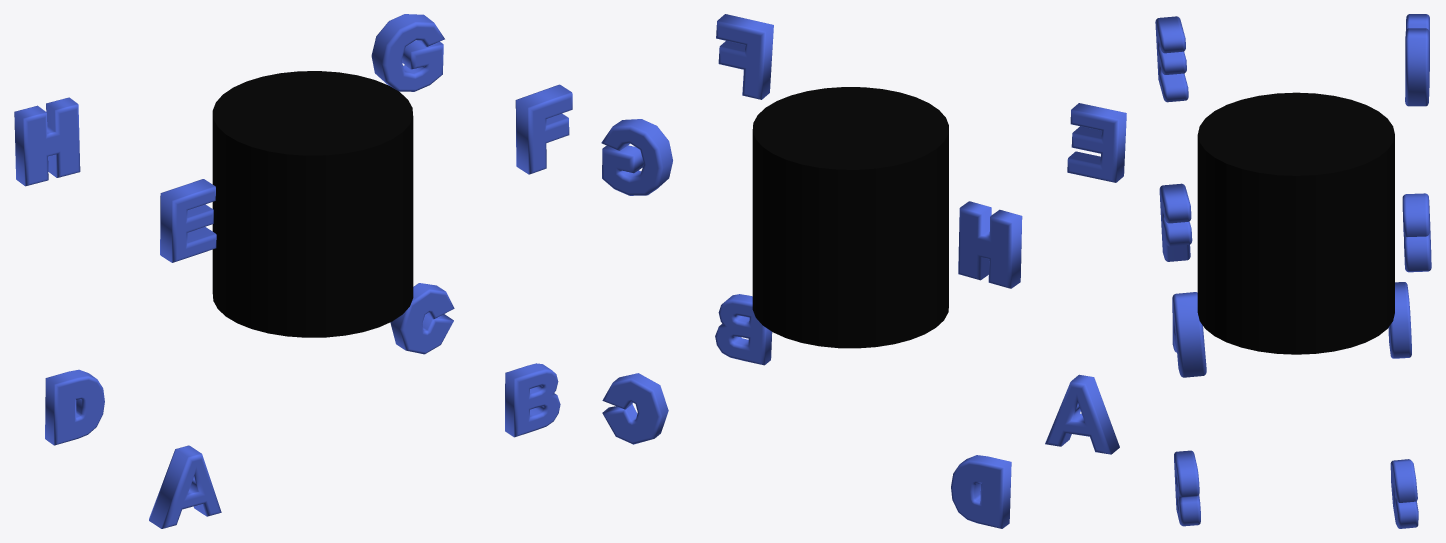
Rendered from tabung4.glb.
The picture shows the model from 3 angles, left to right: view 1: azimuth 30°, elevation 25°; view 2: azimuth 150°, elevation 25°; view 3: azimuth 270°, elevation 25°; orthographic projection. The views are drawn at different scales.
Visible parts, largest first — view 1: Cylinder, Text.007, Text.006, Text.004, Text.003, Text.005, Text.009, Text.001, Text.002; view 2: Cylinder, Text.007, Text.006, Text.004, Text.003, Text.005, Text.002, Text.009, Text.001; view 3: Cylinder, Text.009, Text.004, Text.007, Text.005, Text.006, Text.001, Text.002, Text.003.
Part boxes in pixels (box(x1,y1,x2,y2)): Cylinder: box(212, 71, 413, 337); Text.007: box(14, 97, 80, 186); Text.006: box(371, 14, 444, 91); Text.004: box(160, 179, 216, 262); Text.003: box(45, 369, 104, 445); Text.005: box(515, 84, 572, 174); Text.009: box(149, 445, 221, 528); Text.001: box(505, 363, 560, 437); Text.002: box(390, 283, 454, 354); Cylinder: box(752, 87, 948, 348); Text.007: box(958, 201, 1022, 288); Text.006: box(601, 119, 672, 195); Text.004: box(1067, 103, 1126, 182); Text.003: box(951, 455, 1011, 528); Text.005: box(716, 14, 773, 99); Text.002: box(602, 373, 668, 444); Text.009: box(1045, 374, 1119, 454); Text.001: box(715, 294, 772, 365); Cylinder: box(1197, 92, 1394, 354); Text.009: box(1172, 292, 1206, 377); Text.004: box(1155, 16, 1188, 102); Text.007: box(1405, 14, 1429, 106); Text.005: box(1159, 183, 1192, 261); Text.006: box(1402, 193, 1431, 272); Text.001: box(1174, 450, 1200, 526); Text.002: box(1390, 459, 1418, 528); Text.003: box(1388, 282, 1411, 358).
Bounding box in the file's own units: 4.9 × 3.77 × 2.8.
